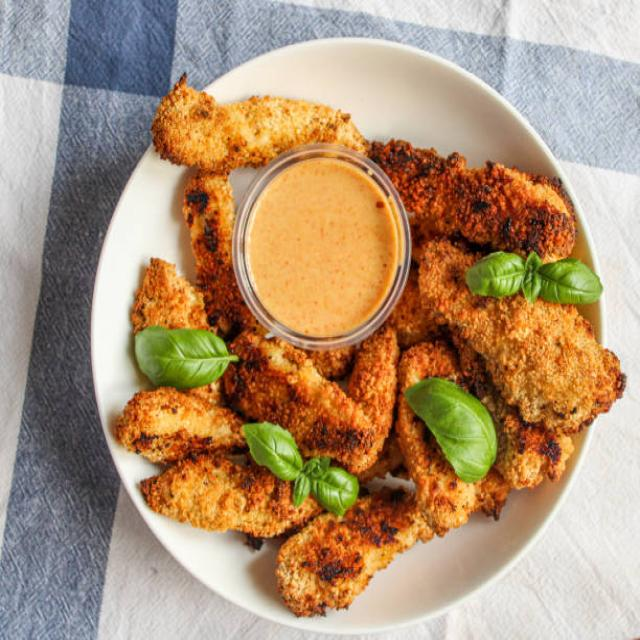Frango: (118, 73, 629, 623)
